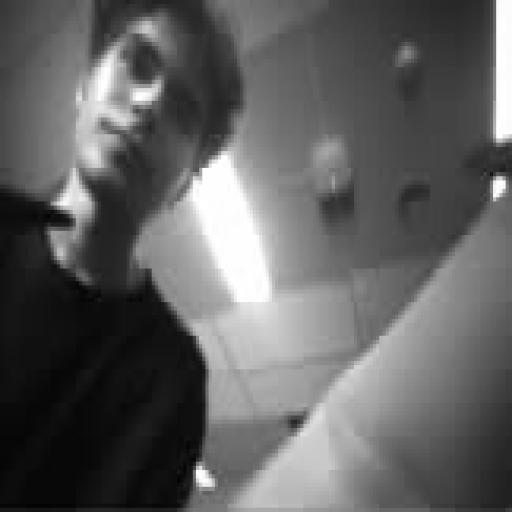human: (0, 0, 243, 507), (228, 194, 511, 511)
